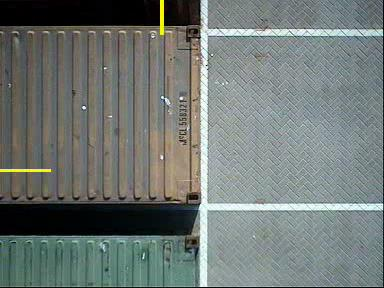groundmarker_2: (199, 1, 242, 63), (195, 161, 237, 224)
